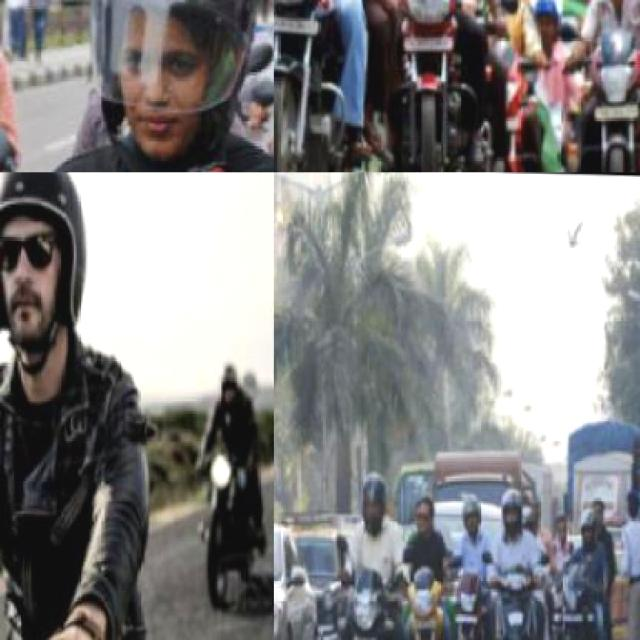With Helmet: (71, 0, 263, 169), (0, 172, 109, 376), (354, 472, 388, 534), (452, 484, 486, 544), (494, 489, 526, 540), (216, 362, 241, 416), (574, 507, 600, 551)
Without Helmet: (410, 496, 436, 538), (548, 507, 570, 545)
